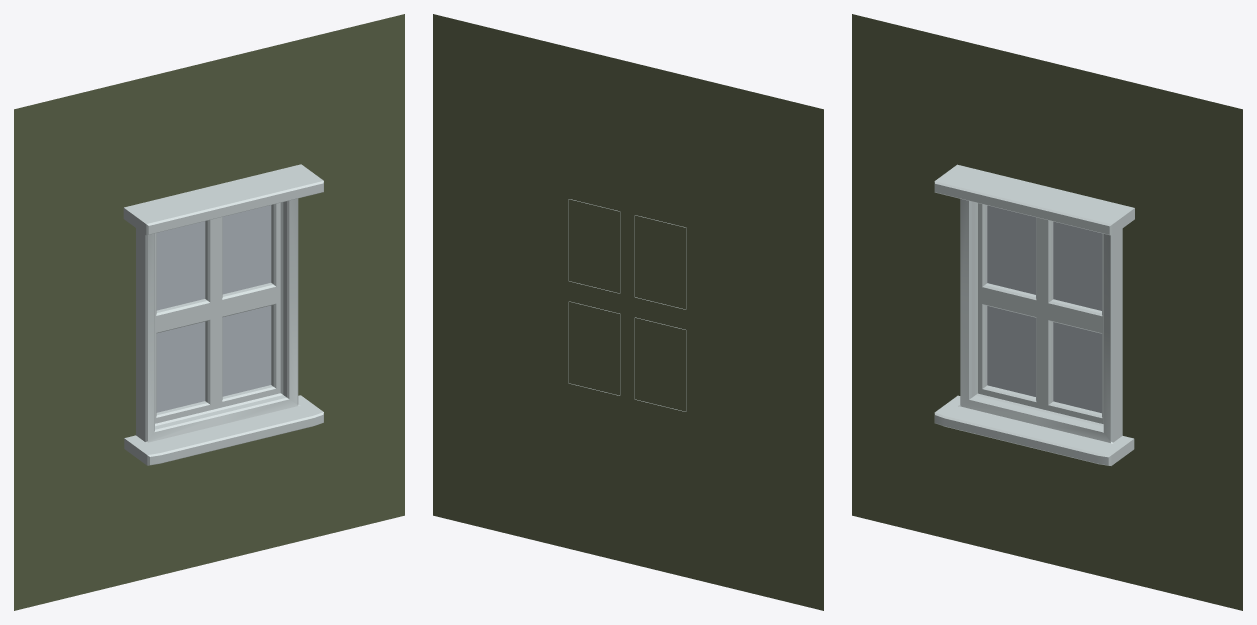
File: fbx_oldbuilding_wall_g2.fbx
3 renders of one model, left to right at view 1: azimuth 30°, elevation 25°; view 2: azimuth 150°, elevation 25°; view 3: azimuth 330°, elevation 25°, orthographic.
Parts seen in each view (by area): view 1: fbx_oldbuilding_wall_g2; view 2: fbx_oldbuilding_wall_g2; view 3: fbx_oldbuilding_wall_g2.
Part boxes in pixels (x1,y1,x2,y2): fbx_oldbuilding_wall_g2: (14, 14, 404, 610); fbx_oldbuilding_wall_g2: (433, 14, 823, 610); fbx_oldbuilding_wall_g2: (852, 14, 1242, 610).
Bounding box in the file's own units: 1.92 × 2.35 × 0.2369.
Materials: 2 (1 with a texture image).
